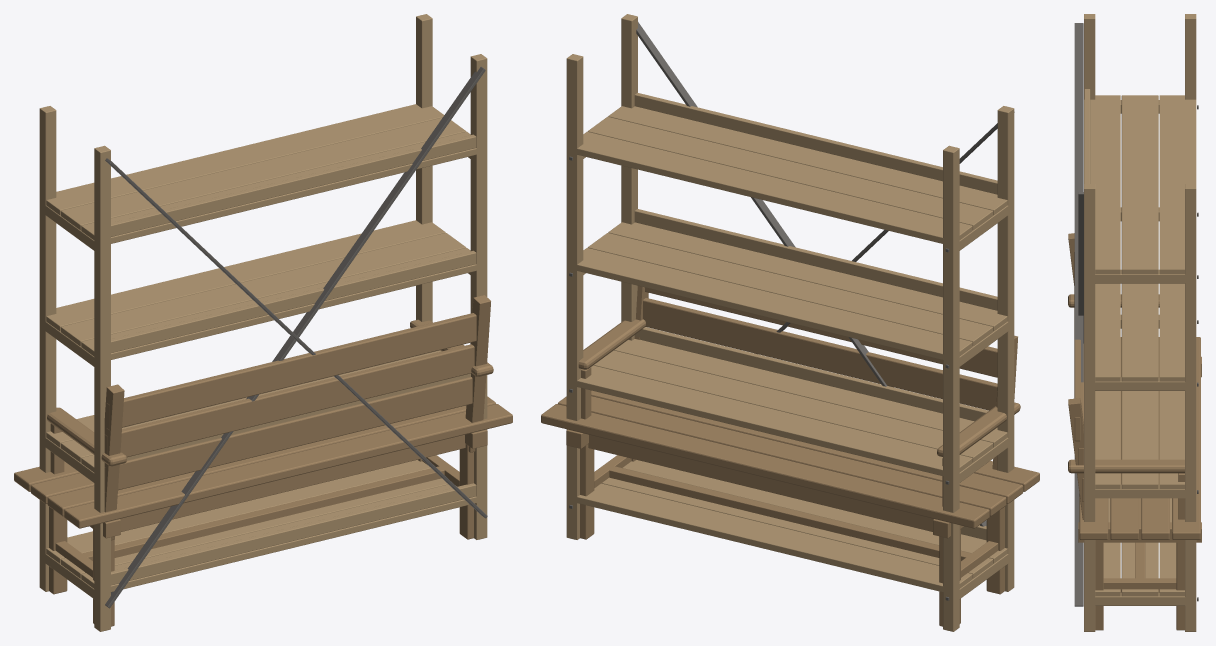
The model's file is public_furnishings.glb.
3 views of the same model, side by side, from view 1: azimuth 30°, elevation 25°; view 2: azimuth 150°, elevation 25°; view 3: azimuth 270°, elevation 25° (orthographic). The views are drawn at different scales.
Visible parts, largest first — view 1: ParcelRack_Pine, LobbyBench_Oak, ParcelRack_Iron; view 2: ParcelRack_Pine, LobbyBench_Oak, ParcelRack_Iron; view 3: ParcelRack_Pine, LobbyBench_Oak, ParcelRack_Iron.
Boxes of the visible parts, x1,y1,x2,y2 form: ParcelRack_Pine: (39,14,487,631); LobbyBench_Oak: (14,295,512,626); ParcelRack_Iron: (105,66,487,608); ParcelRack_Pine: (566,14,1014,631); LobbyBench_Oak: (541,286,1039,626); ParcelRack_Iron: (569,22,1014,600); ParcelRack_Pine: (1084,14,1196,631); LobbyBench_Oak: (1068,233,1201,630); ParcelRack_Iron: (1074,23,1198,606).
Size of the model in its own units: 1.8 by 1.9 by 0.52.
